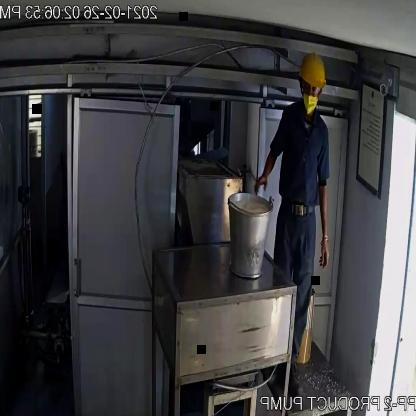helmet: (292, 50, 332, 100)
